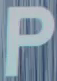Parking: (3, 0, 51, 75)
